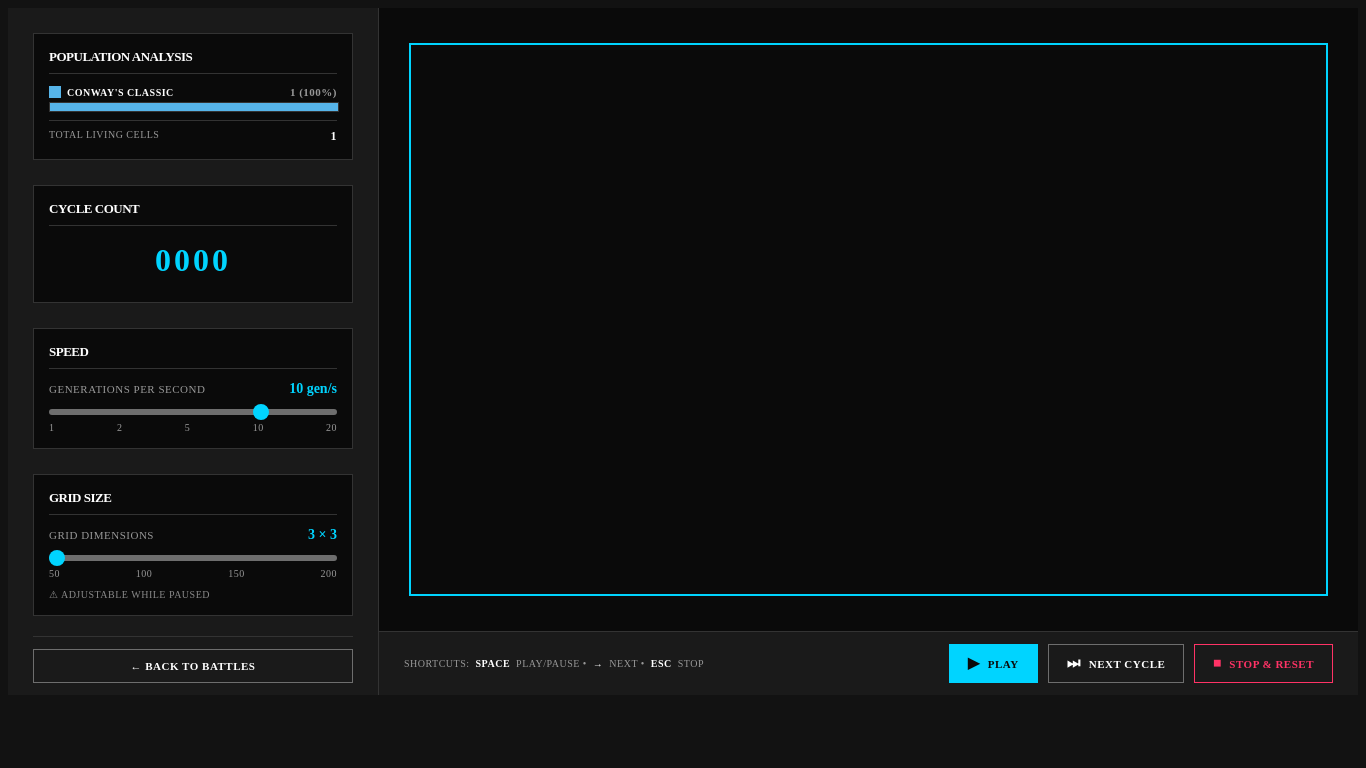
Test: BattleSimulationView — cycle counter & population stats (Story 3.14) › auto-pauses on the first extinct cycle: the skull row, Play resumable, Next cycle enabled, and Stop & reset undoes it
Click the button "▶ Play" at (993, 664), box [949,644,1038,683]
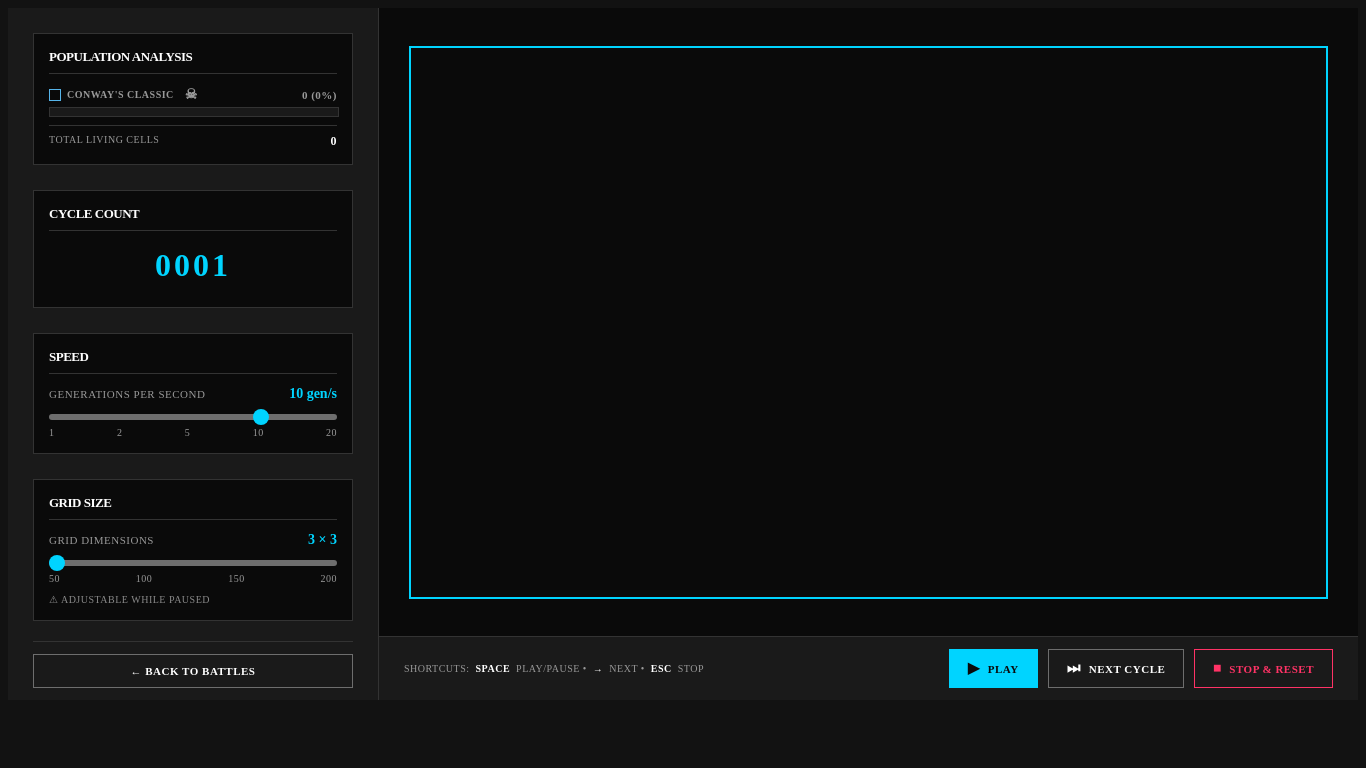
Expected: the button "⏭ Next cycle" is enabled, [1048,649,1184,688]
Expected: the text "0 (0%)" is shown, [302,88,337,100]
Expected: the picture named "extinct" is shown, [185,86,198,103]
Note: (iii) resume, then auto-pause again on the still-empty grid at the next cycle.
Click the button "▶ Play" at (993, 668), box [949,649,1038,688]
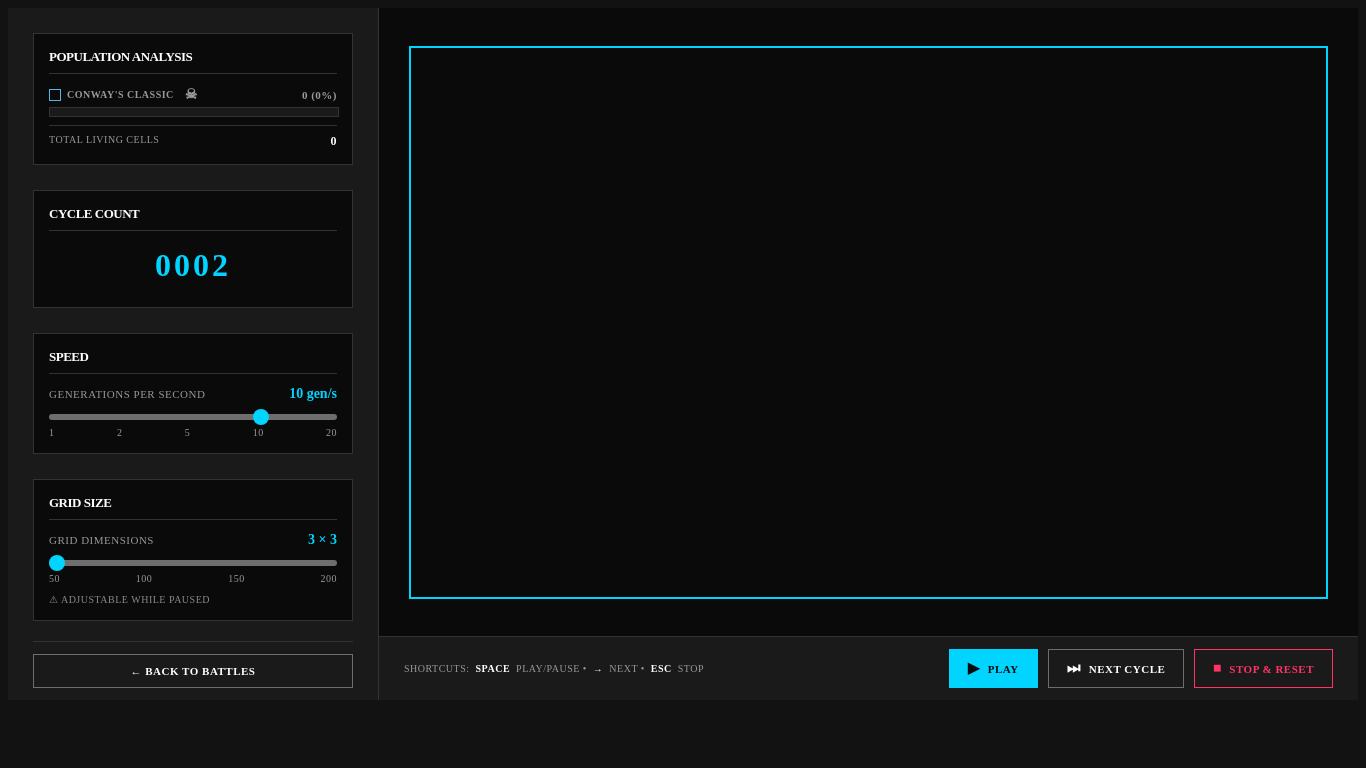
Expected: the element that starts with "Population Analysis" has attribute data-cycle="2"
Note: (iv) Stop & reset behaves exactly as it would after a manual pause — nothing carries over.
Click the button "⏹ Stop & reset" at (1264, 668), box [1194,649,1333,688]
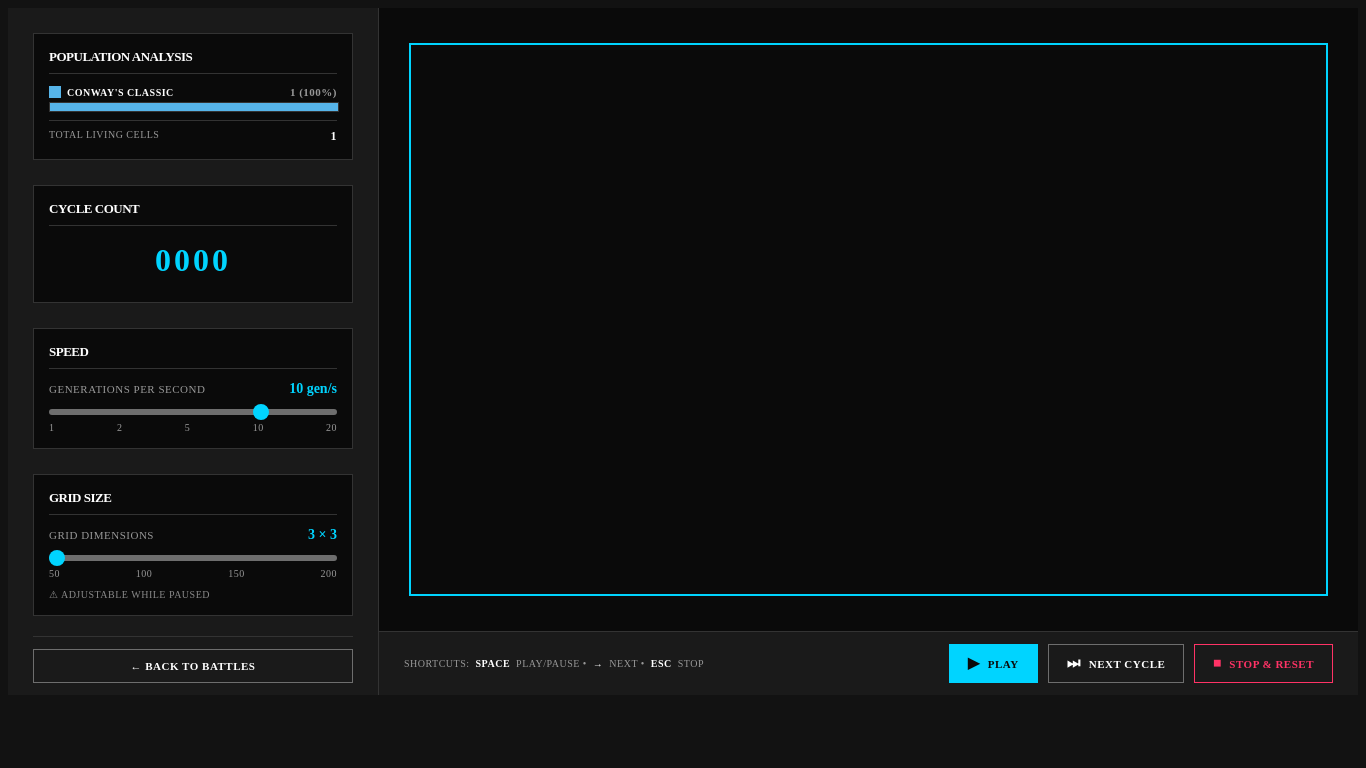
Expected: the text "1 (100%)" is shown, [290,86,337,98]
Expected: the picture "extinct" is gone
